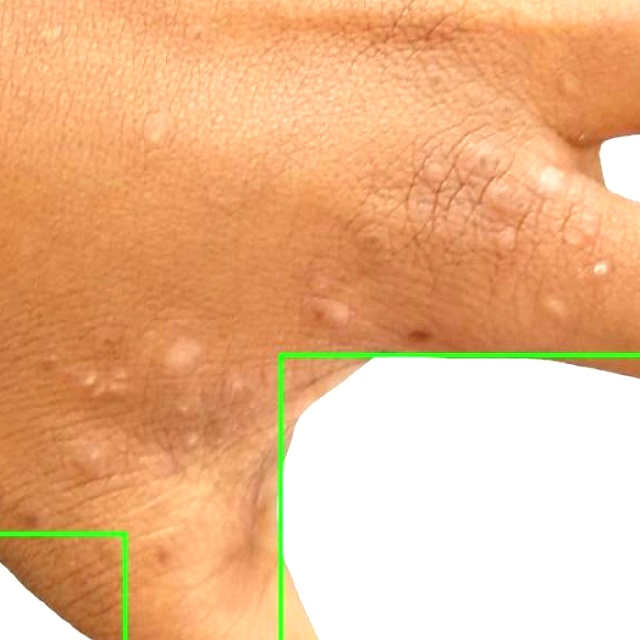Scabies: (279, 356, 639, 639), (0, 533, 125, 639)
